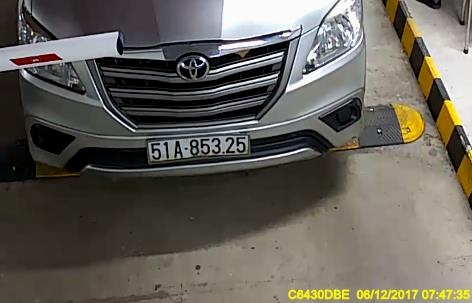plate: (143, 133, 256, 163)
